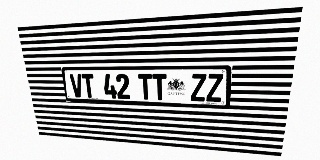2: (115, 74, 130, 99)
4: (103, 74, 117, 99)
T: (138, 74, 153, 100), (152, 74, 167, 100), (81, 74, 96, 98)
V: (69, 74, 84, 98)
Z: (206, 74, 223, 102), (191, 74, 206, 102)
